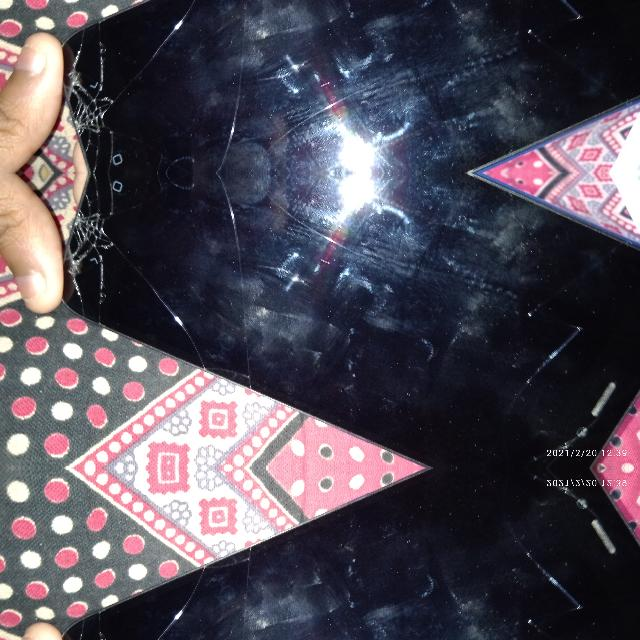phone_screen: (66, 172, 639, 466), (66, 467, 639, 639), (66, 0, 639, 171)
